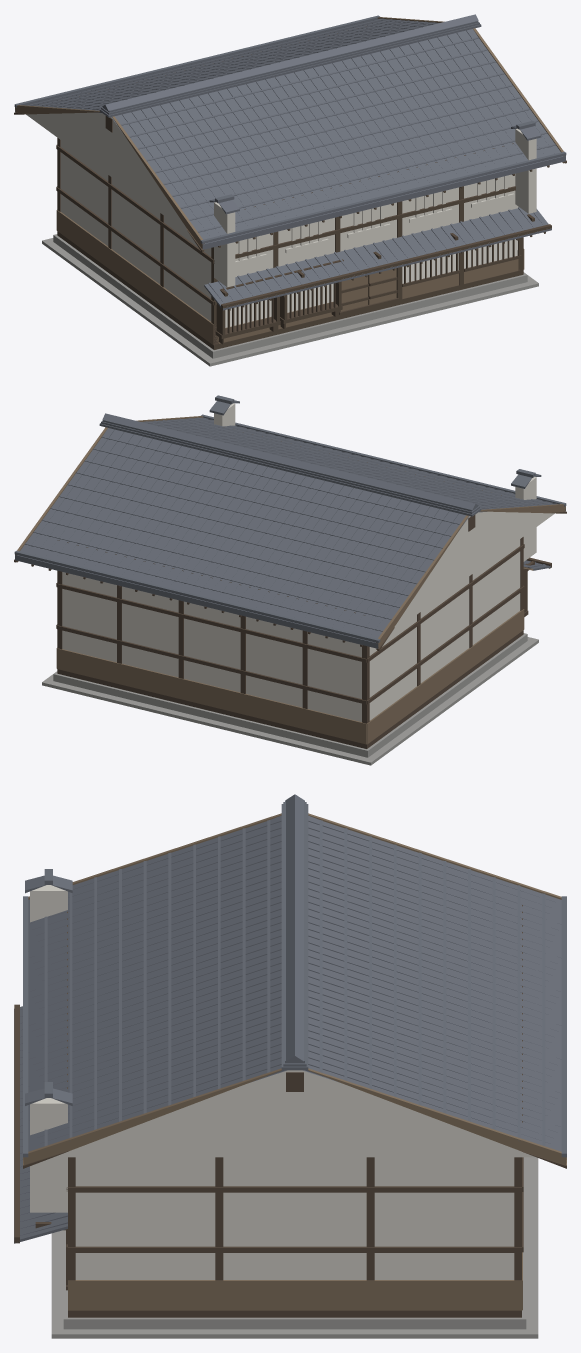
File: machiya_f_o.glb
The picture shows the model from 3 angles, top to bottom: view 1: azimuth 30°, elevation 25°; view 2: azimuth 150°, elevation 25°; view 3: azimuth 270°, elevation 25°; orthographic projection. The views are drawn at different scales.
Parts seen in each view (by area): view 1: machiya_f_o; view 2: machiya_f_o; view 3: machiya_f_o.
Boxes of the visible parts, x1=… form: machiya_f_o: x1=14, y1=14, x2=566, y2=366; machiya_f_o: x1=14, y1=395, x2=566, y2=765; machiya_f_o: x1=14, y1=794, x2=566, y2=1338.
Bounding box in the file's own units: 11.8 × 6.22 × 10.47.
